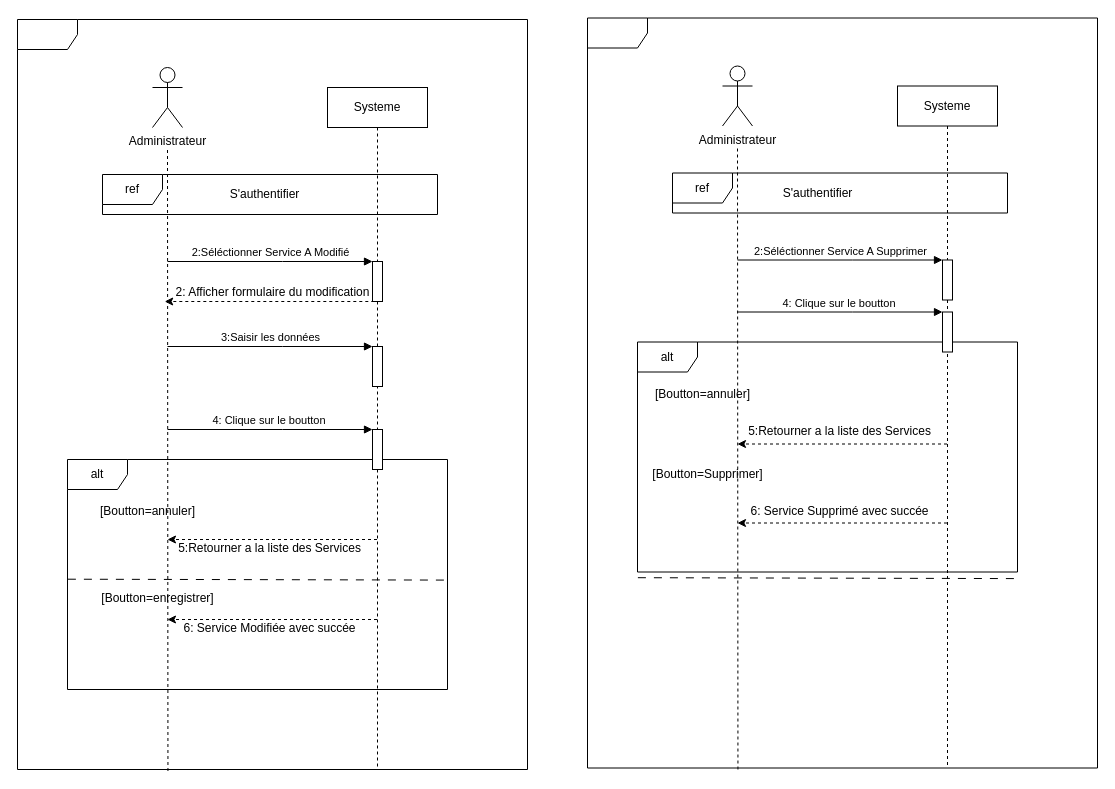
The diagram is 1115 pixels wide and 789 high, and some of its shapes have lost their labels. The shapes that lost their labels are listed below. From the top down, each one's box as (x1, y1, x2, y2) in pixels, then its label:
(16, 18, 528, 770): Modifier Service
(586, 17, 1098, 768): Supprimer Service
